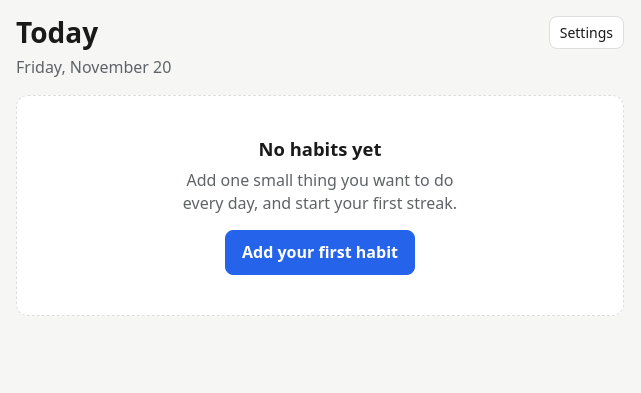
Test: Today page › trims the name
Click the button "Add your first habit" at (320, 252), box [225,230,415,274]
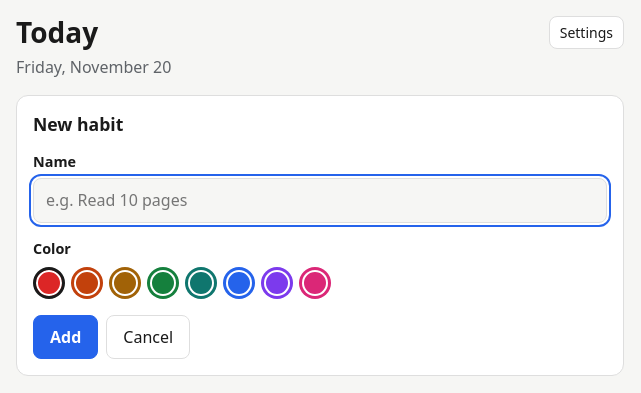
Type "   Walk   " into the field labelled "Name" at (320, 201), box [33,178,607,223]
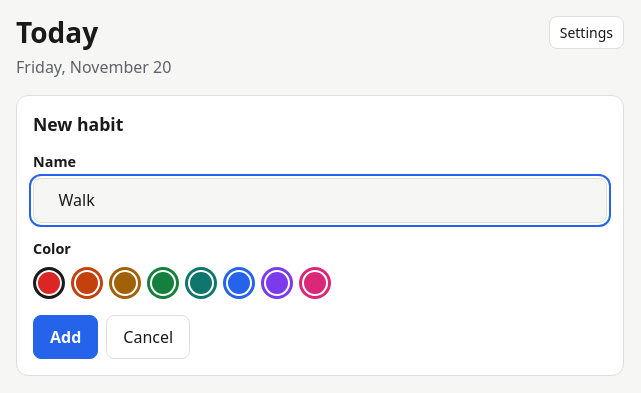
Click the button "Add" at (66, 337), box [33,315,98,359]
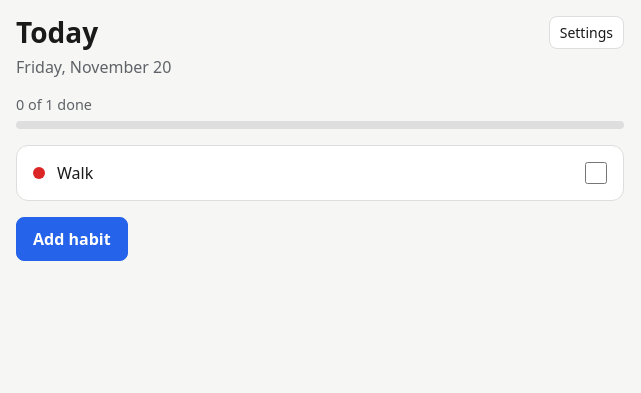
Now the checkbox named "Walk done today" is shown, box [585,162,607,184]
